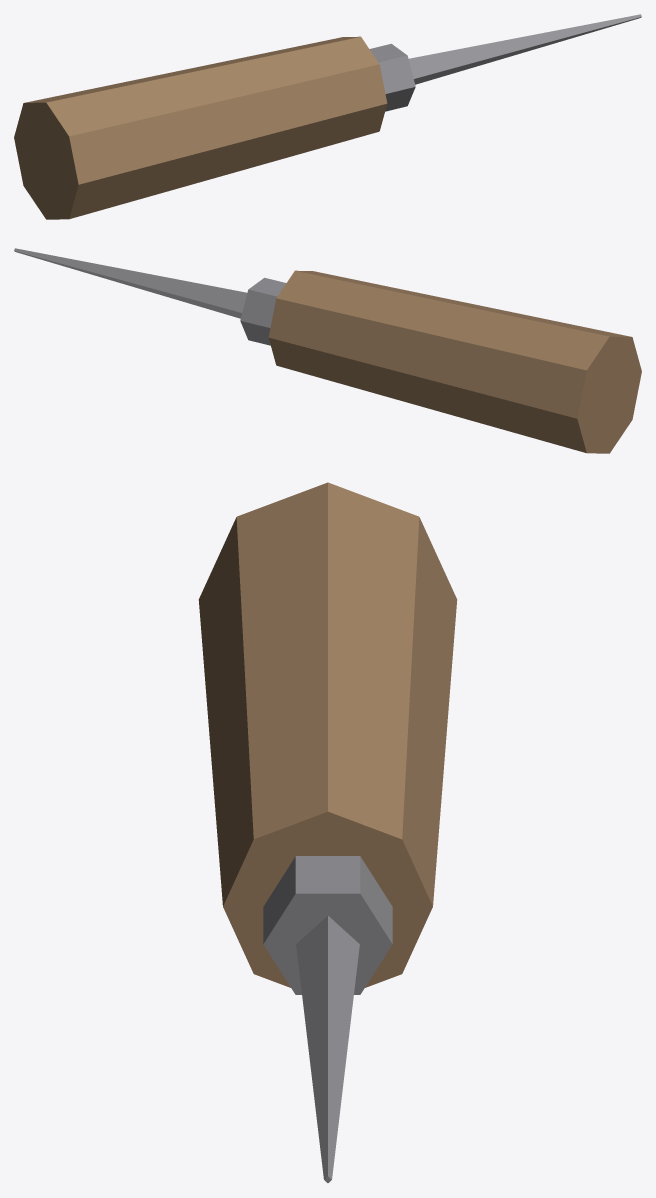
The model's file is prop-cobbler-awl.fbx.
3 views of the same model, one above another, from view 1: azimuth 30°, elevation 25°; view 2: azimuth 150°, elevation 25°; view 3: azimuth 270°, elevation 25° (orthographic). The views are drawn at different scales.
Visible parts, largest first — view 1: prop-cobbler-awl; view 2: prop-cobbler-awl; view 3: prop-cobbler-awl.
Boxes of the visible parts, x1=… form: prop-cobbler-awl: x1=14, y1=14, x2=641, y2=219; prop-cobbler-awl: x1=14, y1=248, x2=641, y2=453; prop-cobbler-awl: x1=198, y1=482, x2=457, y2=1182.
Size of the model in its own units: 17 by 3.2 by 3.2.
